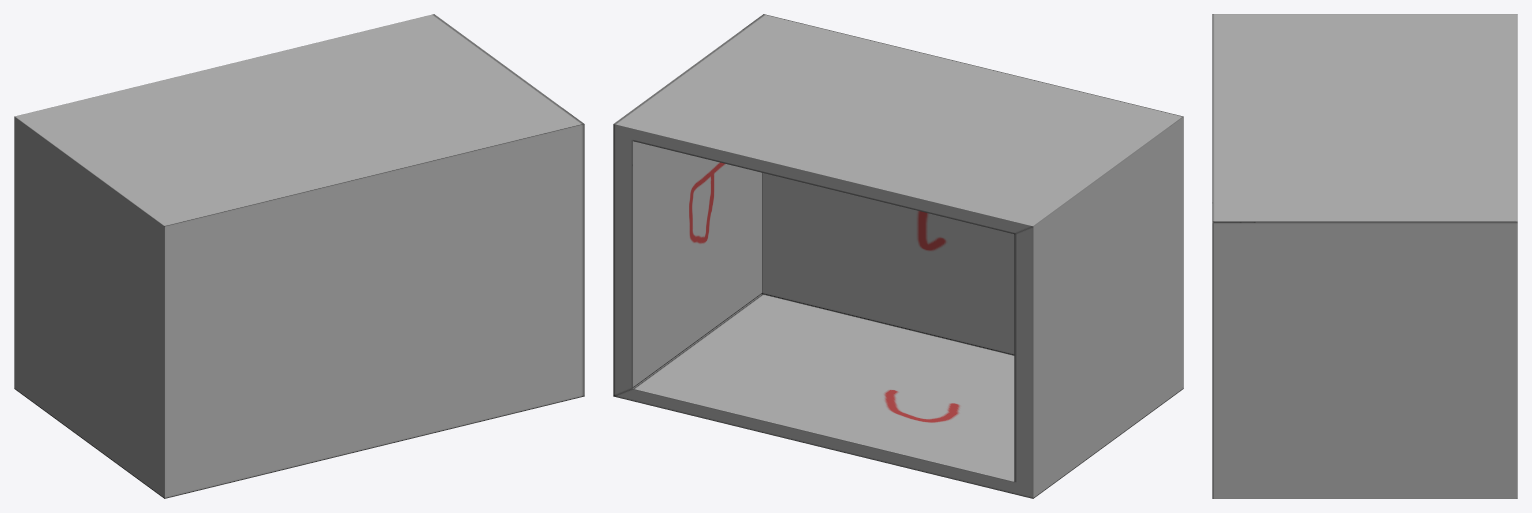
File: roombase.fbx
The picture shows the model from 3 angles, left to right: view 1: azimuth 30°, elevation 25°; view 2: azimuth 150°, elevation 25°; view 3: azimuth 270°, elevation 25°; orthographic projection.
Parts seen in each view (by area): view 1: Cube; view 2: Cube; view 3: Cube.
Boxes of the visible parts, <box> form: Cube: <box>14,14,584,498</box>; Cube: <box>613,14,1183,498</box>; Cube: <box>1212,14,1517,498</box>.
Size of the model in its own units: 3.23 by 2 by 2.
1 material, 1 textured.
